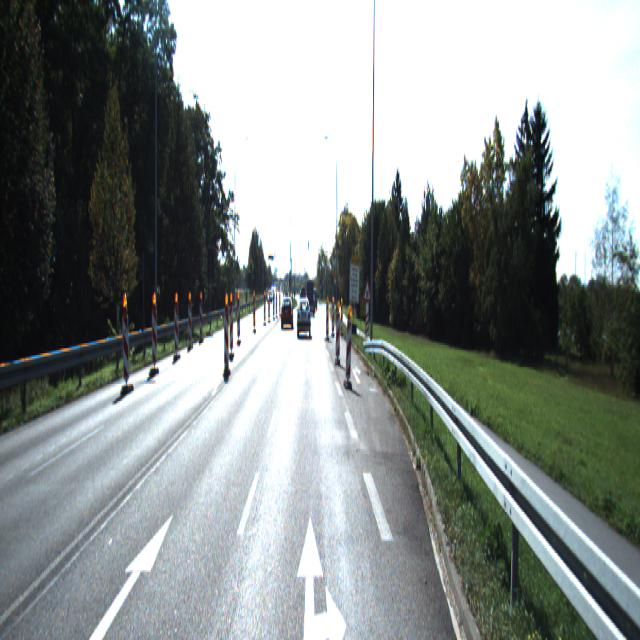Car: (297, 302, 311, 338), (281, 298, 293, 330), (306, 280, 314, 316)
